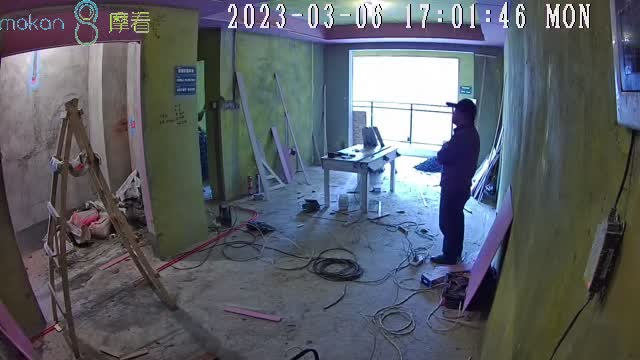people: (431, 98, 479, 262)
window: (352, 52, 459, 144)
